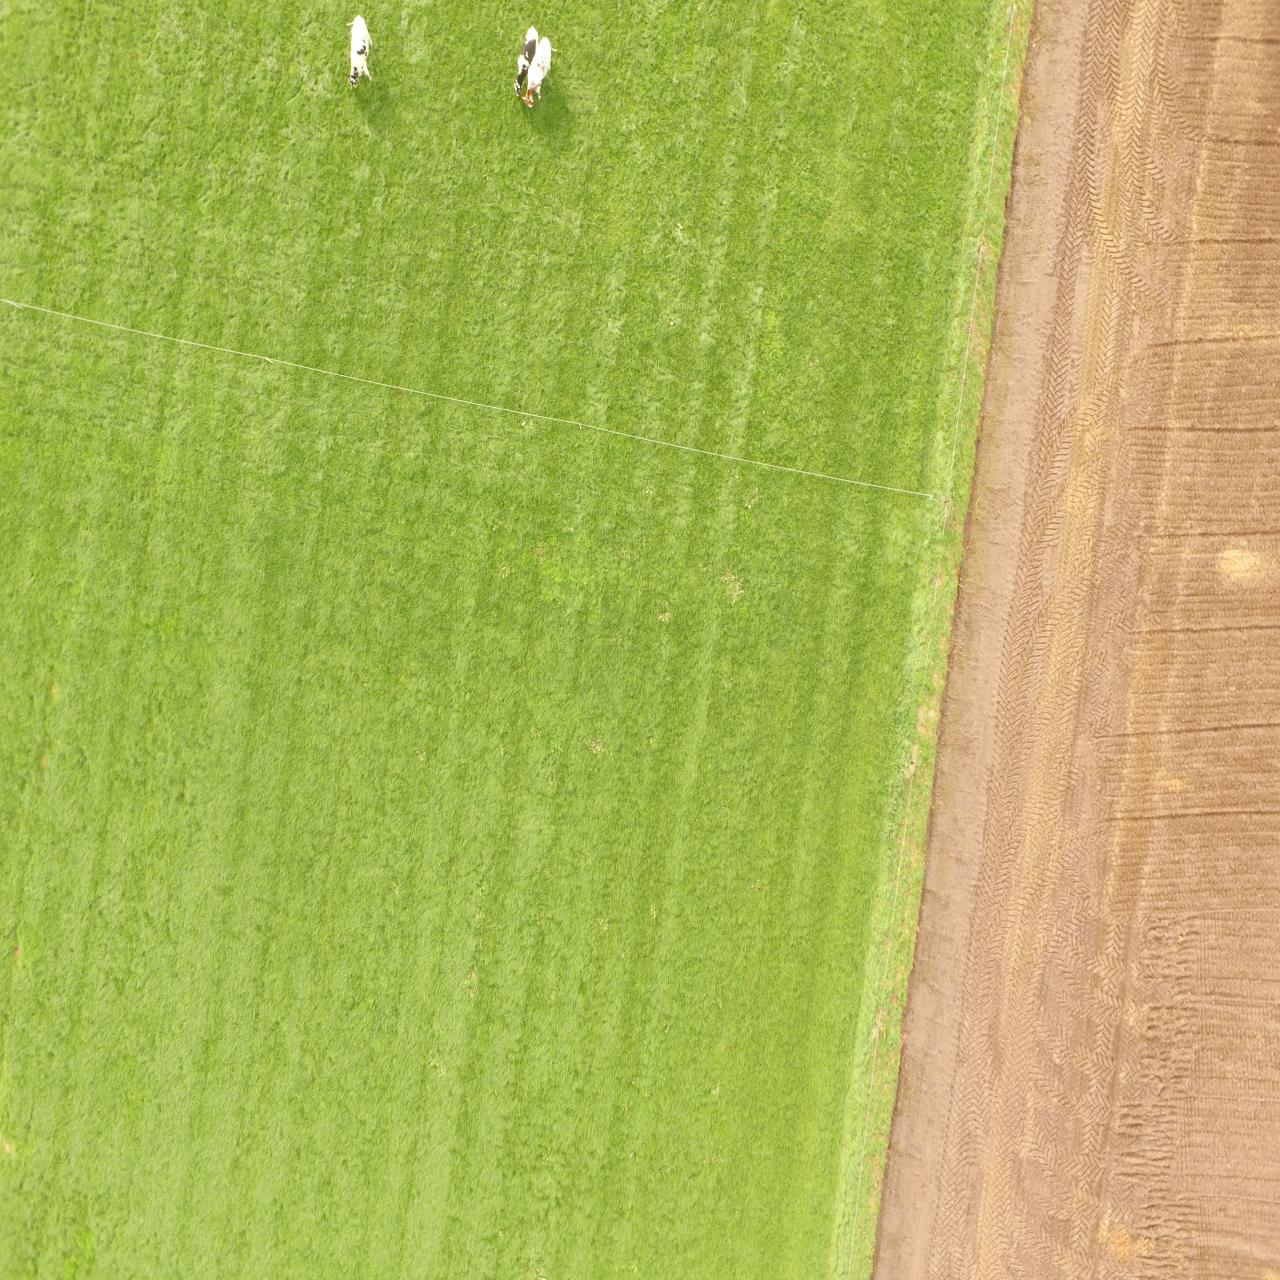cow: (510, 22, 554, 111), (343, 11, 376, 93)
